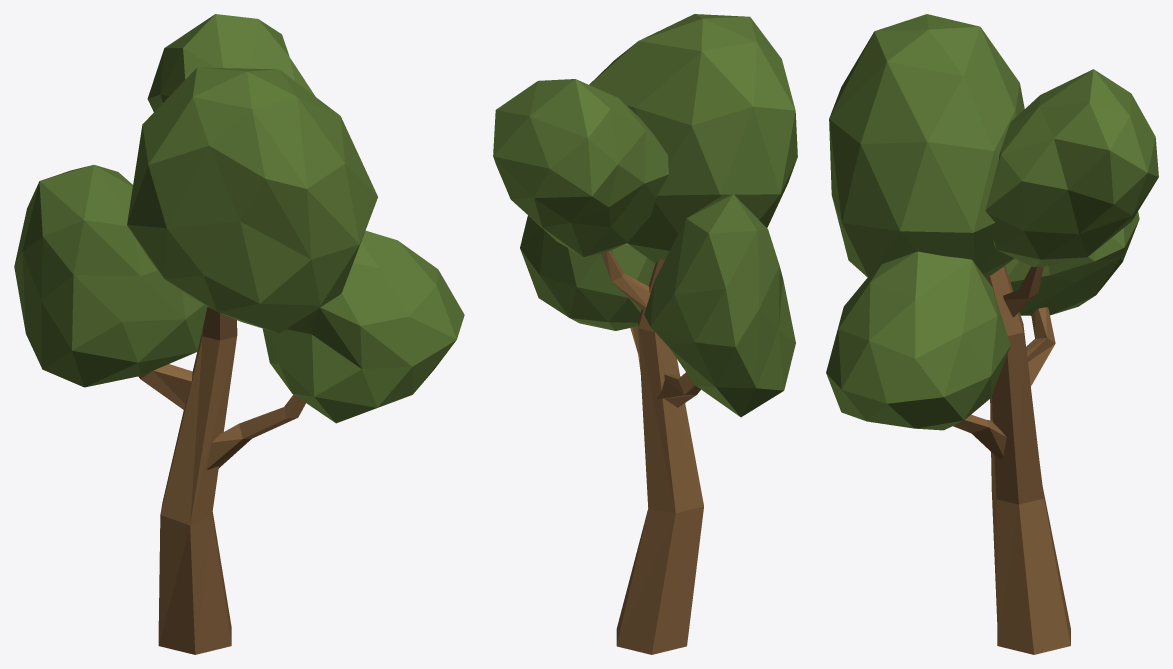
The model's file is Tree_2_2.FBX.
3 views of the same model, side by side, from view 1: azimuth 30°, elevation 25°; view 2: azimuth 150°, elevation 25°; view 3: azimuth 270°, elevation 25° (orthographic). The views are drawn at different scales.
Parts seen in each view (by area): view 1: Tree_2_2; view 2: Tree_2_2; view 3: Tree_2_2.
Boxes of the visible parts, x1,y1,x2,y2 form: Tree_2_2: [14, 14, 464, 654]; Tree_2_2: [493, 14, 797, 654]; Tree_2_2: [826, 14, 1158, 654].
Bounding box in the file's own units: 98.63 × 167 × 82.89.
1 material, 1 textured.
